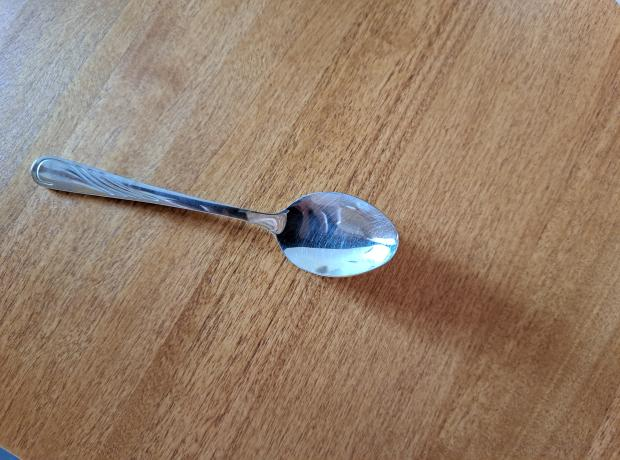metal: (32, 154, 401, 277)
